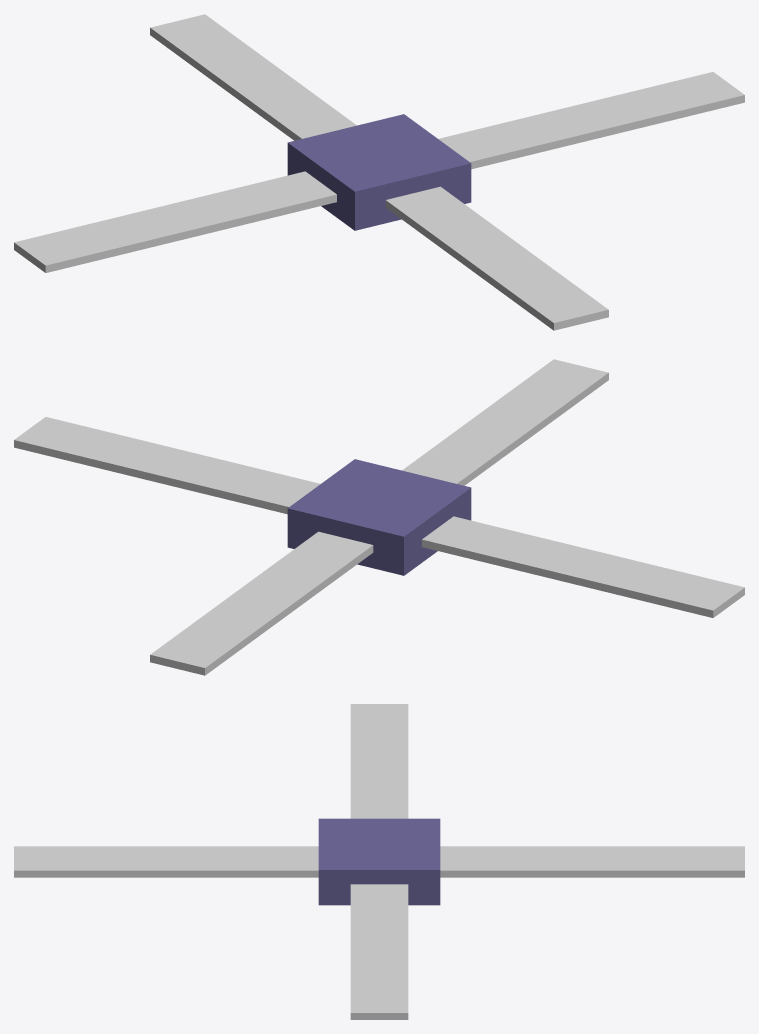
File: _lades.fbx
3 views of the same model, one above another, from view 1: azimuth 30°, elevation 25°; view 2: azimuth 150°, elevation 25°; view 3: azimuth 270°, elevation 25° (orthographic). The views are drawn at different scales.
Parts seen in each view (by area): view 1: Cube.002; view 2: Cube.002; view 3: Cube.002.
Boxes of the visible parts, <box> form: Cube.002: <box>14,14,744,330</box>; Cube.002: <box>14,359,744,675</box>; Cube.002: <box>14,704,744,1019</box>.
Bounding box in the file's own units: 1200 × 64.17 × 1200.
